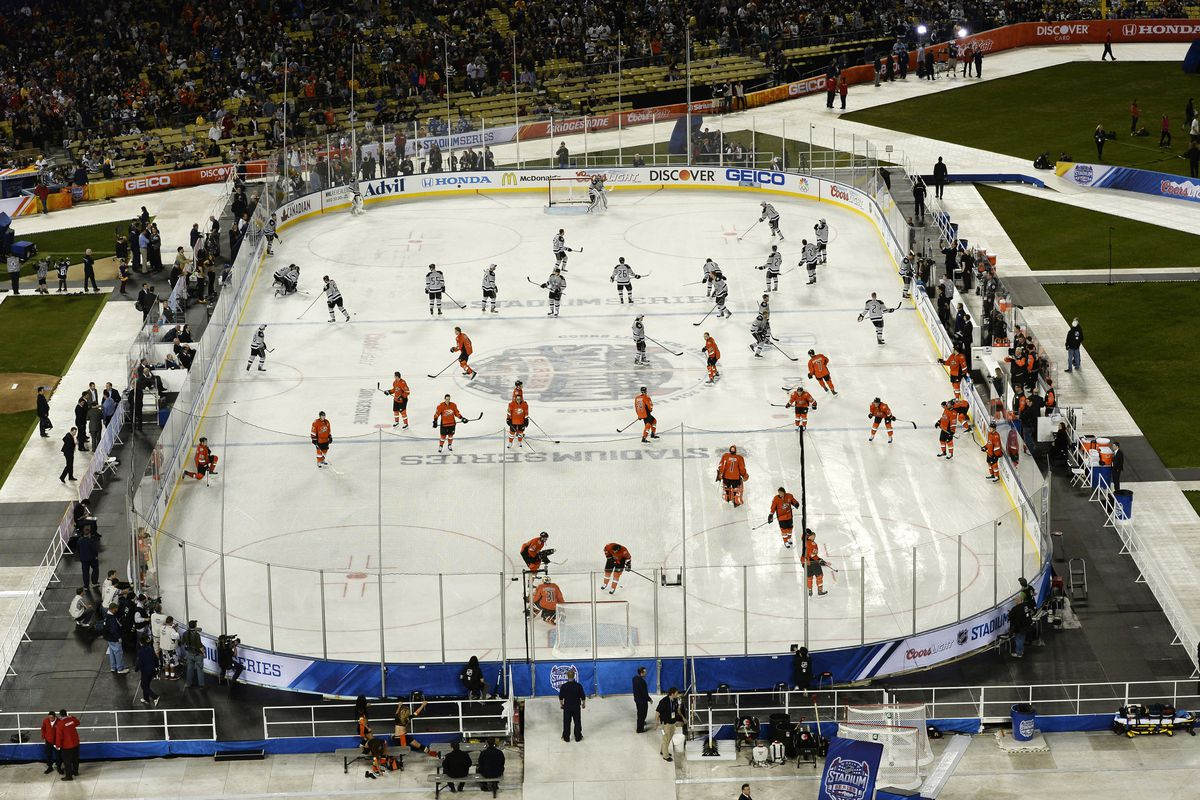Geico: (724, 163, 786, 191)
